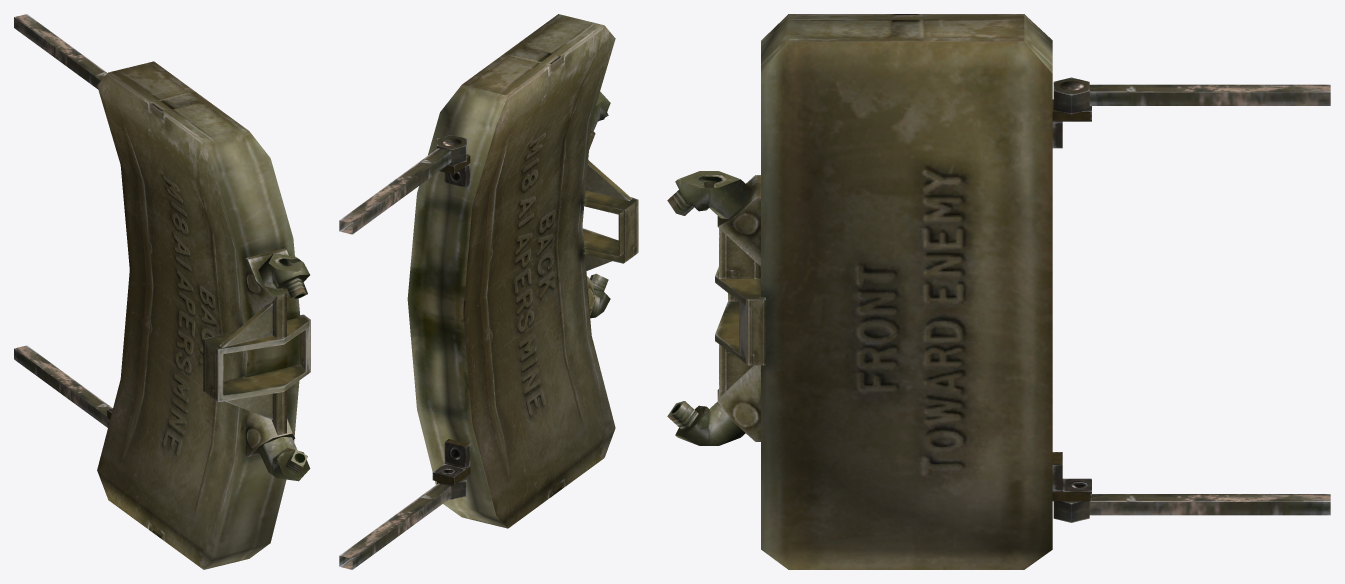
The model's file is weapon_claymore_LOD0.obj.
3 renders of one model, left to right at view 1: azimuth 30°, elevation 25°; view 2: azimuth 150°, elevation 25°; view 3: azimuth 270°, elevation 25°, orthographic. The views are drawn at different scales.
Parts seen in each view (by area): view 1: mtl_weapon_claymore; view 2: mtl_weapon_claymore; view 3: mtl_weapon_claymore.
Part boxes in pixels (x1=…): mtl_weapon_claymore: x1=14, y1=14, x2=310, y2=569; mtl_weapon_claymore: x1=339, y1=14, x2=638, y2=569; mtl_weapon_claymore: x1=667, y1=14, x2=1330, y2=569.
Bounding box in the file's own units: 6.88 × 28.05 × 31.92.
1 material, 1 textured.
